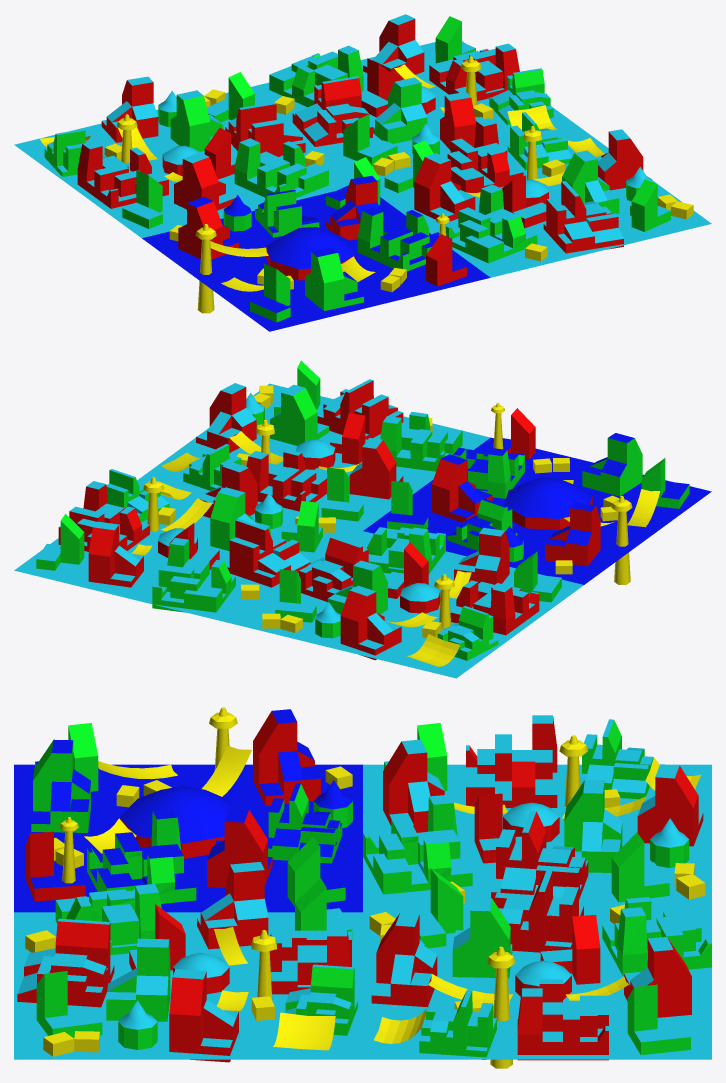
File: mesh_placa_cocopolis_01.FBX
The picture shows the model from 3 angles, top to bottom: view 1: azimuth 30°, elevation 25°; view 2: azimuth 150°, elevation 25°; view 3: azimuth 270°, elevation 25°; orthographic projection. The views are drawn at different scales.
Visible parts, largest first — view 1: Placa_cocopolis_01; view 2: Placa_cocopolis_01; view 3: Placa_cocopolis_01.
Part boxes in pixels (<box>): Placa_cocopolis_01: <box>14,14,711,331</box>; Placa_cocopolis_01: <box>14,360,711,678</box>; Placa_cocopolis_01: <box>14,707,711,1068</box>.
Size of the model in its own units: 20 by 4.03 by 20.
